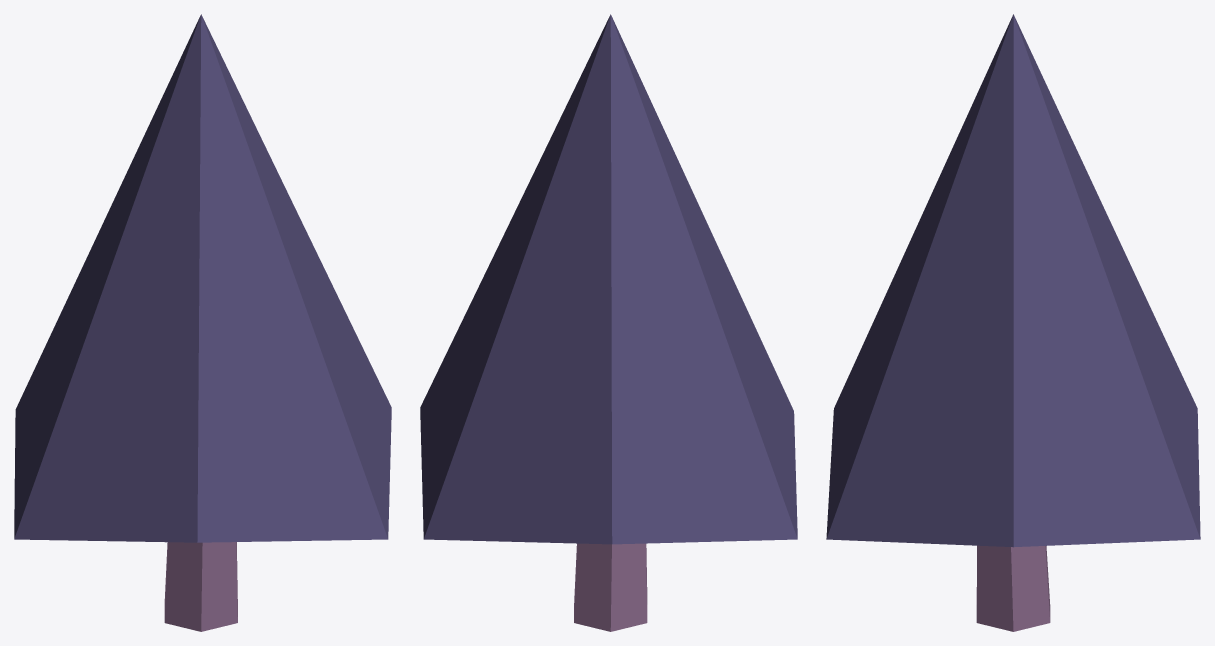
File: PineTree2.fbx
3 renders of one model, left to right at view 1: azimuth 30°, elevation 25°; view 2: azimuth 150°, elevation 25°; view 3: azimuth 270°, elevation 25°, orthographic.
Visible parts, largest first — view 1: pasted__pasted__pCylinder2, pasted__pasted__pCylinder1; view 2: pasted__pasted__pCylinder2, pasted__pasted__pCylinder1; view 3: pasted__pasted__pCylinder2, pasted__pasted__pCylinder1.
Part boxes in pixels (x1,y1,x2,y2): pasted__pasted__pCylinder2: (14,14,391,542); pasted__pasted__pCylinder1: (164,542,237,631); pasted__pasted__pCylinder2: (420,14,797,544); pasted__pasted__pCylinder1: (574,543,647,631); pasted__pasted__pCylinder2: (826,14,1200,547); pasted__pasted__pCylinder1: (976,545,1050,631).
Bounding box in the file's own units: 3.72 × 5.65 × 3.19.
